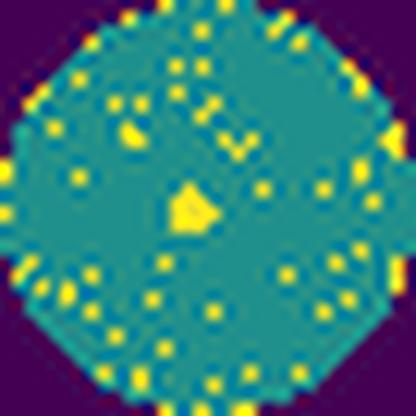Center: (160, 176, 224, 242)
